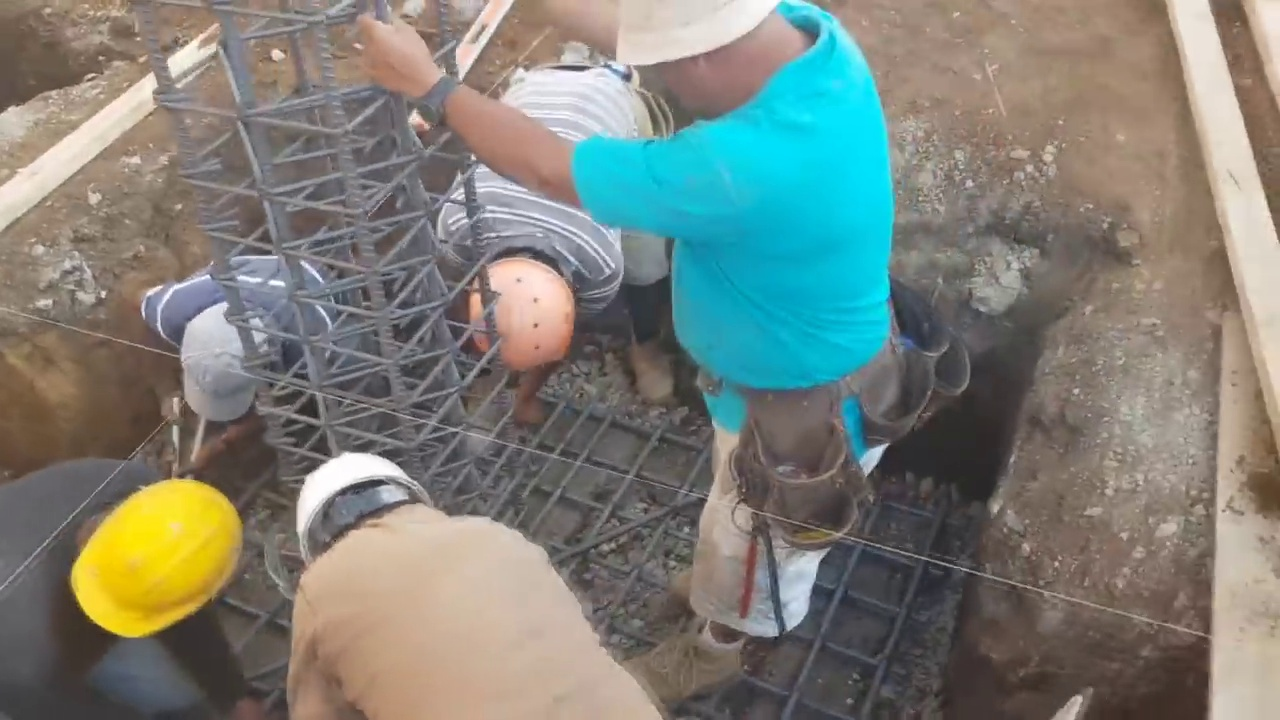helmet: (65, 480, 240, 649), (292, 458, 433, 572), (470, 257, 576, 371)
helmet-off: (182, 309, 271, 425)
helmet-on: (51, 470, 241, 663), (284, 452, 445, 591), (635, 6, 811, 115), (460, 240, 584, 372)
person: (504, 11, 947, 688), (427, 0, 664, 450), (264, 465, 658, 720), (136, 245, 362, 453)
